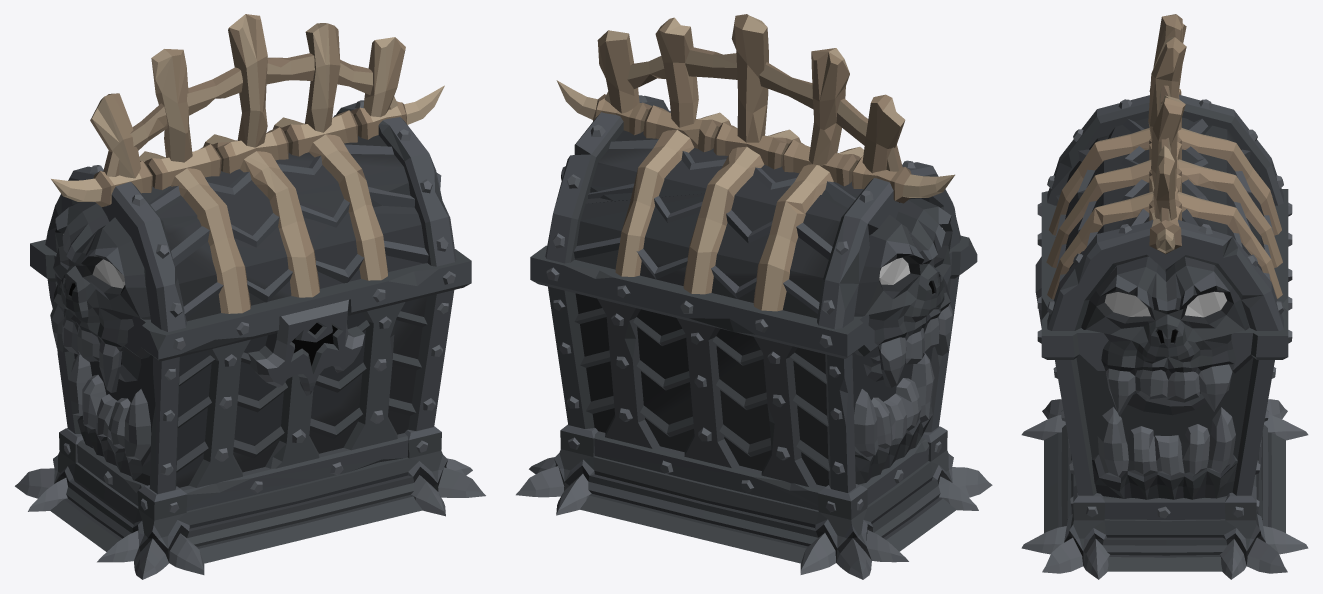
The model's file is SM_Prop_Chest_04.fbx.
The picture shows the model from 3 angles, left to right: view 1: azimuth 30°, elevation 25°; view 2: azimuth 150°, elevation 25°; view 3: azimuth 270°, elevation 25°; orthographic projection. The views are drawn at different scales.
Visible parts, largest first — view 1: SM_Prop_Chest_04_Lid, SM_Prop_Chest_04; view 2: SM_Prop_Chest_04_Lid, SM_Prop_Chest_04; view 3: SM_Prop_Chest_04_Lid, SM_Prop_Chest_04.
Boxes of the visible parts, x1,y1,x2,y2 form: SM_Prop_Chest_04_Lid: (30, 14, 471, 392); SM_Prop_Chest_04: (15, 279, 485, 579); SM_Prop_Chest_04_Lid: (530, 14, 977, 387); SM_Prop_Chest_04: (516, 276, 992, 579); SM_Prop_Chest_04_Lid: (1037, 14, 1292, 416); SM_Prop_Chest_04: (1021, 256, 1308, 579).
Bounding box in the file's own units: 149 × 172 × 97.98.
Materials: 3 (2 with a texture image).
